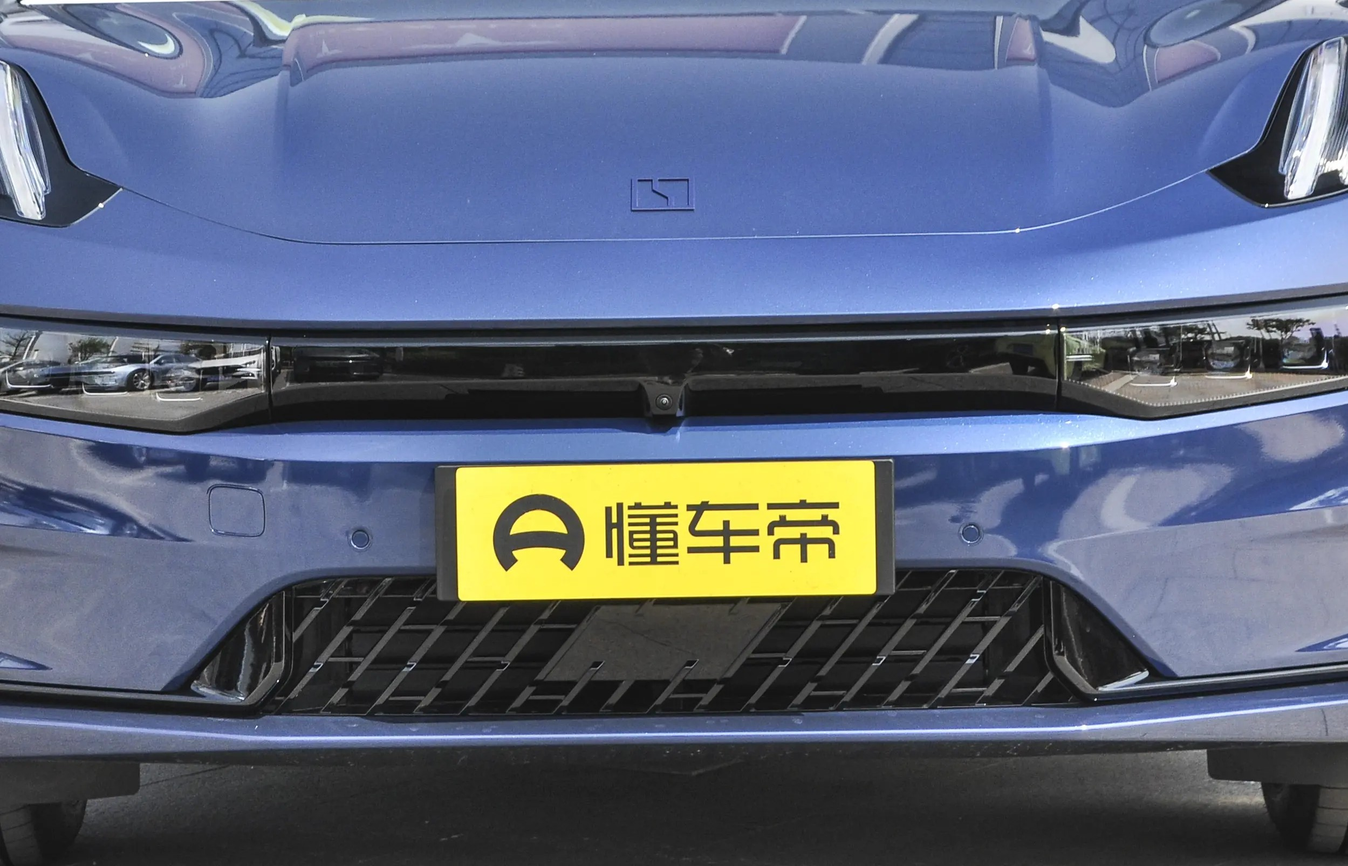ZEEKR: (632, 176, 694, 211)
